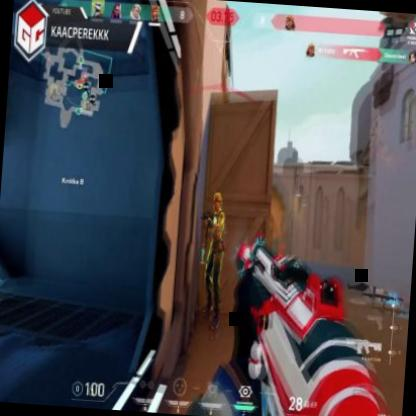enemy: (196, 192, 229, 332)
enemy_head: (213, 192, 222, 212)
